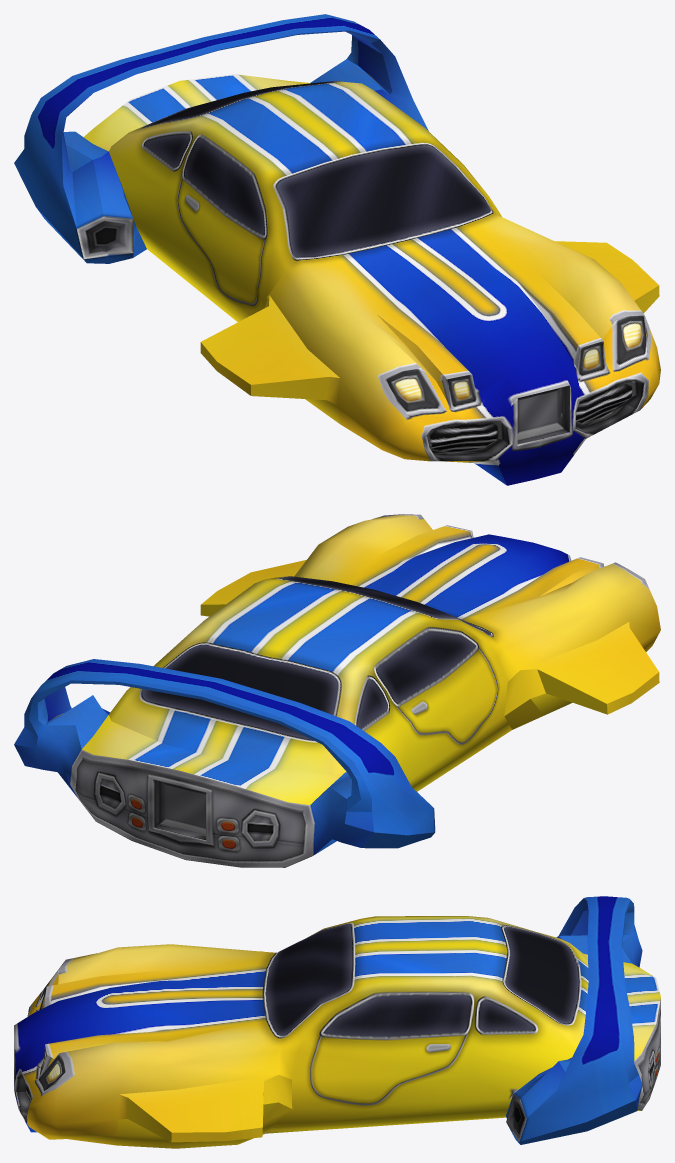
The model's file is JpCelica_low.FBX.
3 renders of one model, top to bottom at view 1: azimuth 30°, elevation 25°; view 2: azimuth 150°, elevation 25°; view 3: azimuth 270°, elevation 25°, orthographic. The views are drawn at different scales.
Parts seen in each view (by area): view 1: JpCelica; view 2: JpCelica; view 3: JpCelica.
Boxes of the visible parts, x1,y1,x2,y2 form: JpCelica: [14, 14, 660, 485]; JpCelica: [14, 514, 660, 867]; JpCelica: [14, 896, 660, 1148].
Bounding box in the file's own units: 2.07 × 0.9602 × 3.14.
